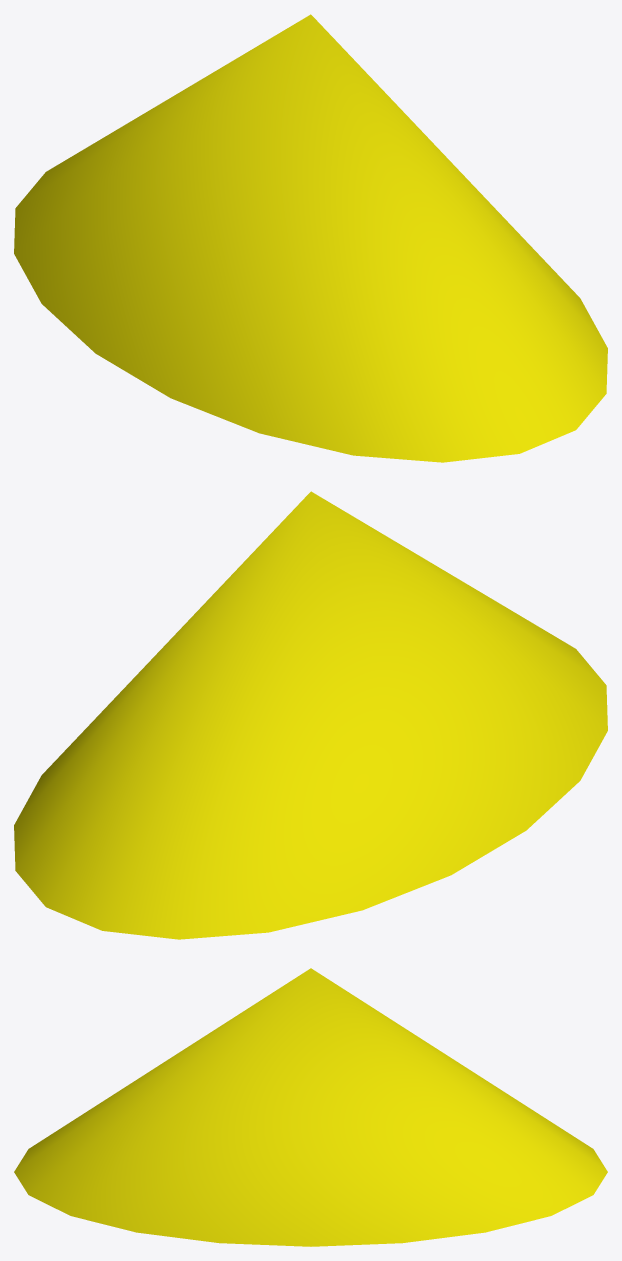
File: Mountain Yellow.fbx
3 views of the same model, one above another, from view 1: azimuth 30°, elevation 25°; view 2: azimuth 150°, elevation 25°; view 3: azimuth 270°, elevation 25° (orthographic). The views are drawn at different scales.
Visible parts, largest first — view 1: polySurface19; view 2: polySurface19; view 3: polySurface19.
Boxes of the visible parts, x1,y1,x2,y2 form: polySurface19: (14, 14, 607, 462); polySurface19: (14, 491, 607, 939); polySurface19: (14, 968, 607, 1246).
Bounding box in the file's own units: 7.95 × 5.06 × 13.35.
